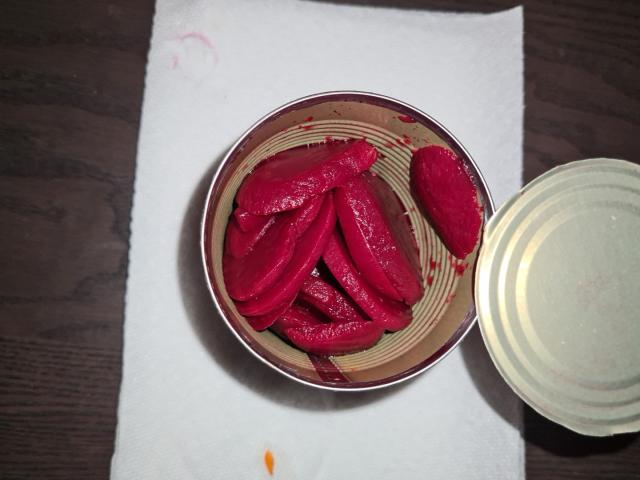kichen waste: (223, 139, 478, 355)
